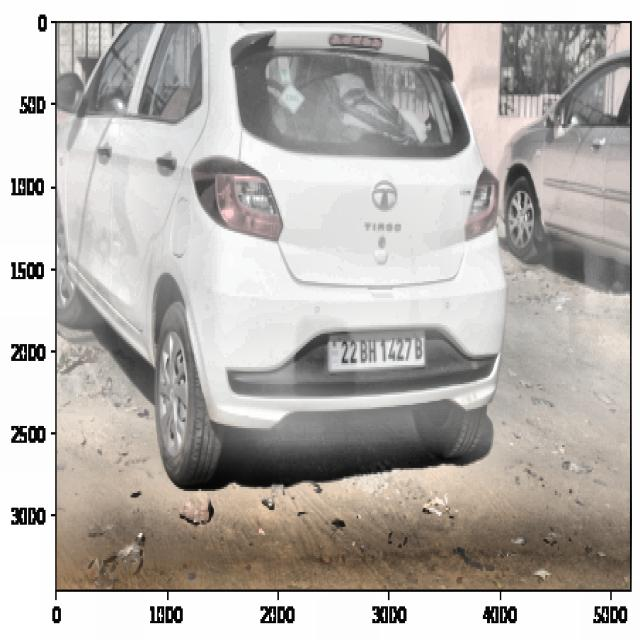license_plate: (337, 334, 428, 372)
